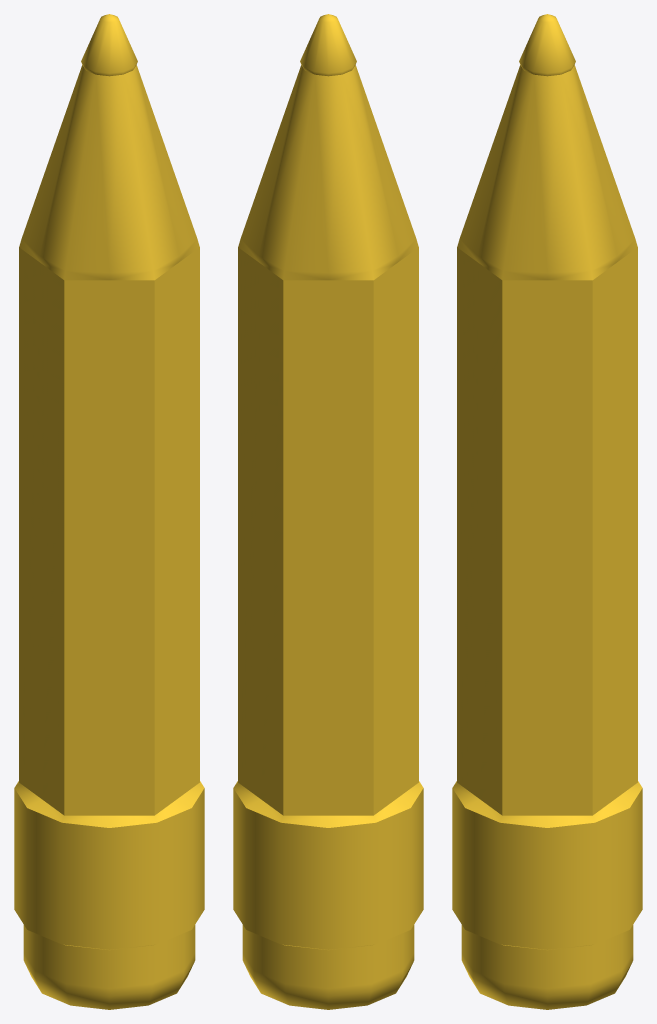
File: Pencil.dae
3 renders of one model, left to right at view 1: azimuth 30°, elevation 25°; view 2: azimuth 150°, elevation 25°; view 3: azimuth 270°, elevation 25°, orthographic.
Parts seen in each view (by area): view 1: Pencil; view 2: Pencil; view 3: Pencil.
Part boxes in pixels (x1=…): Pencil: x1=14, y1=14, x2=204, y2=1009; Pencil: x1=233, y1=14, x2=423, y2=1009; Pencil: x1=452, y1=14, x2=642, y2=1009.
Bounding box in the file's own units: 0.1951 × 0.1951 × 1.1.
